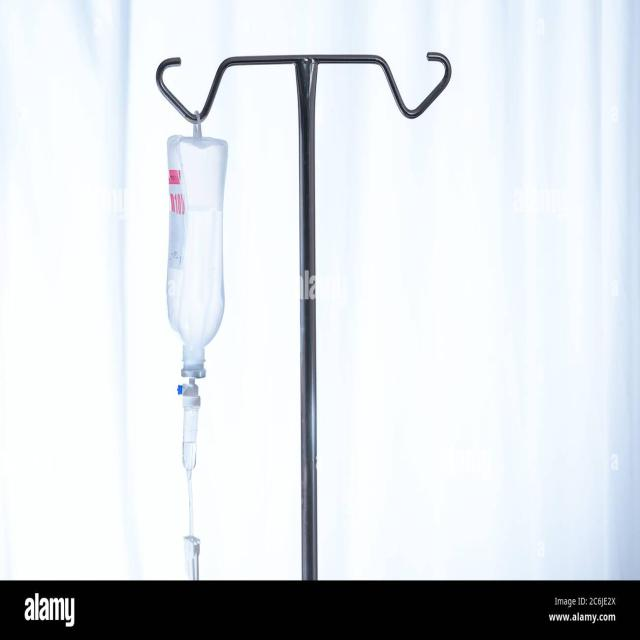B3: (156, 128, 235, 386)
